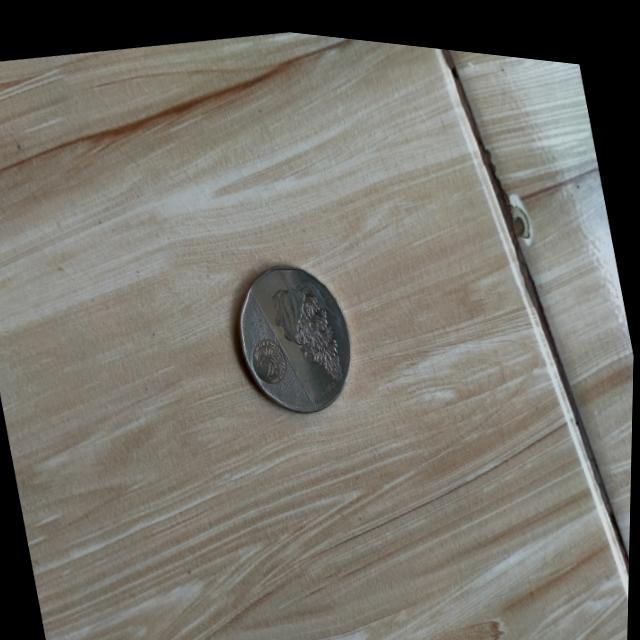10_New_Back: (253, 239, 362, 401)
